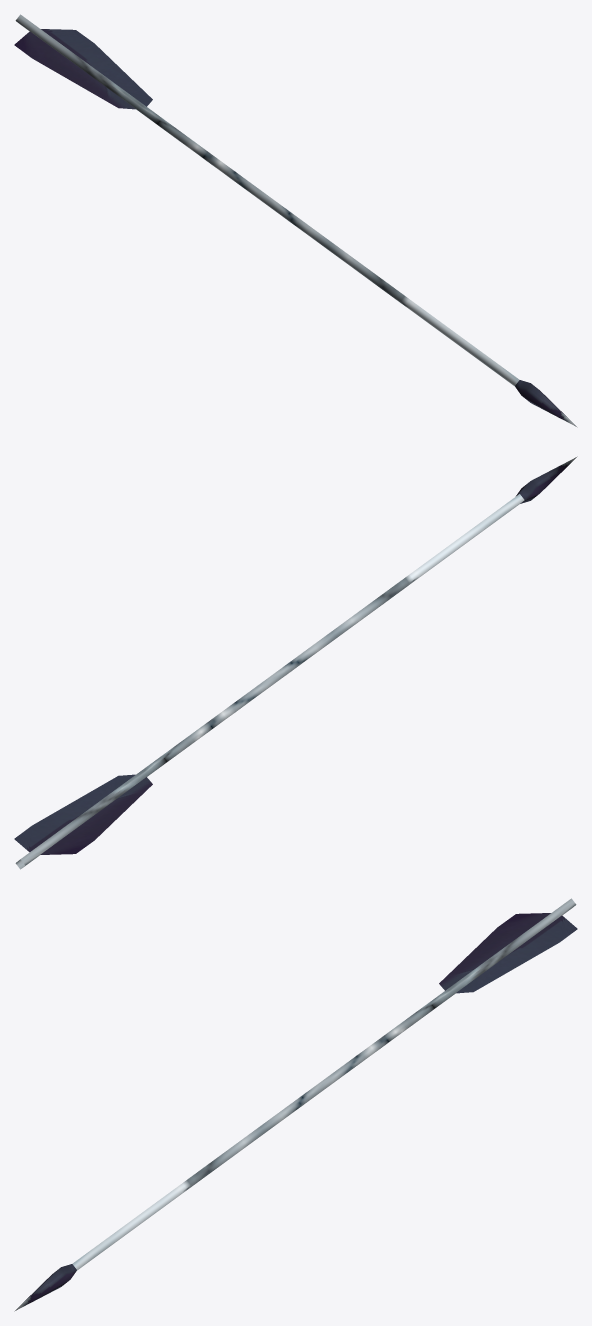
The model's file is 1006_jian.FBX.
The picture shows the model from 3 angles, top to bottom: view 1: azimuth 30°, elevation 25°; view 2: azimuth 150°, elevation 25°; view 3: azimuth 330°, elevation 25°; orthographic projection.
Visible parts, largest first — view 1: W1006; view 2: W1006; view 3: W1006.
Part boxes in pixels (box(x1,y1,x2,y2)): W1006: box(14, 14, 577, 427); W1006: box(14, 456, 577, 869); W1006: box(14, 898, 577, 1311).
Size of the model in its own units: 8.72 by 2.68 by 135.
1 material, 1 textured.
